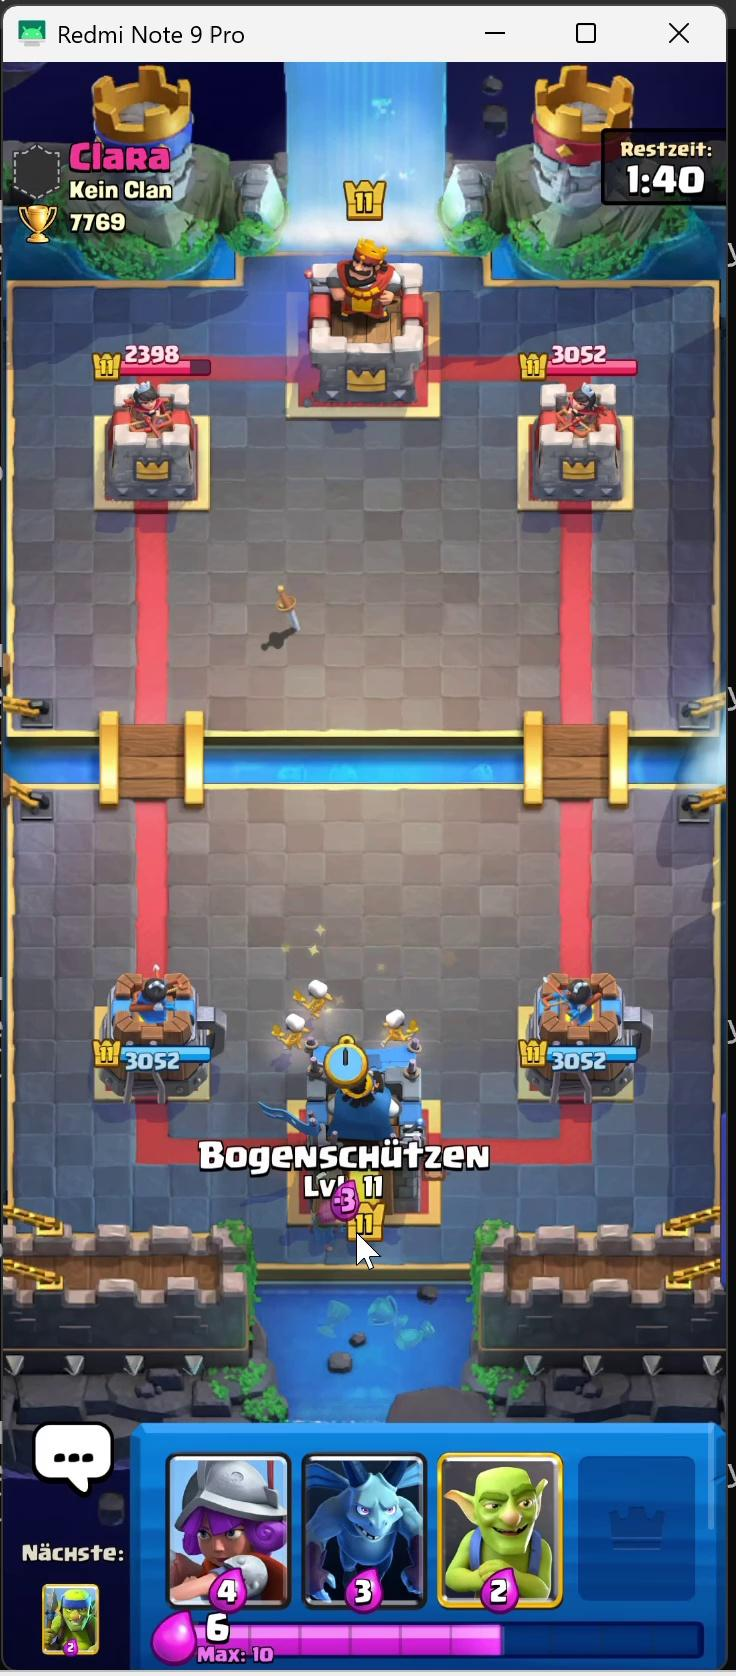squelette: (295, 979, 344, 1020), (276, 1015, 318, 1054), (380, 1006, 414, 1043)
